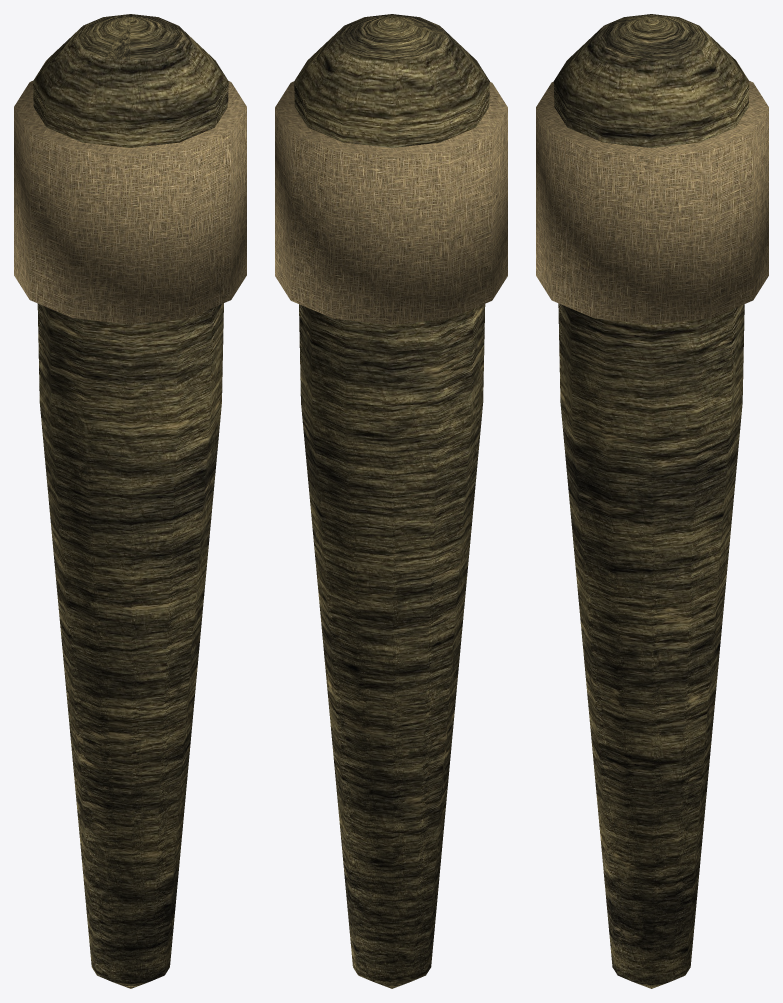
Rendered from torch.fbx.
The picture shows the model from 3 angles, left to right: view 1: azimuth 30°, elevation 25°; view 2: azimuth 150°, elevation 25°; view 3: azimuth 270°, elevation 25°; orthographic projection.
Visible parts, largest first — view 1: Cylinder; view 2: Cylinder; view 3: Cylinder.
Boxes of the visible parts, box(x1,y1,x2,y2) form: Cylinder: box(14, 14, 246, 988); Cylinder: box(275, 14, 507, 988); Cylinder: box(536, 14, 768, 988).
Bounding box in the file's own units: 0.9524 × 4.38 × 0.9524.
